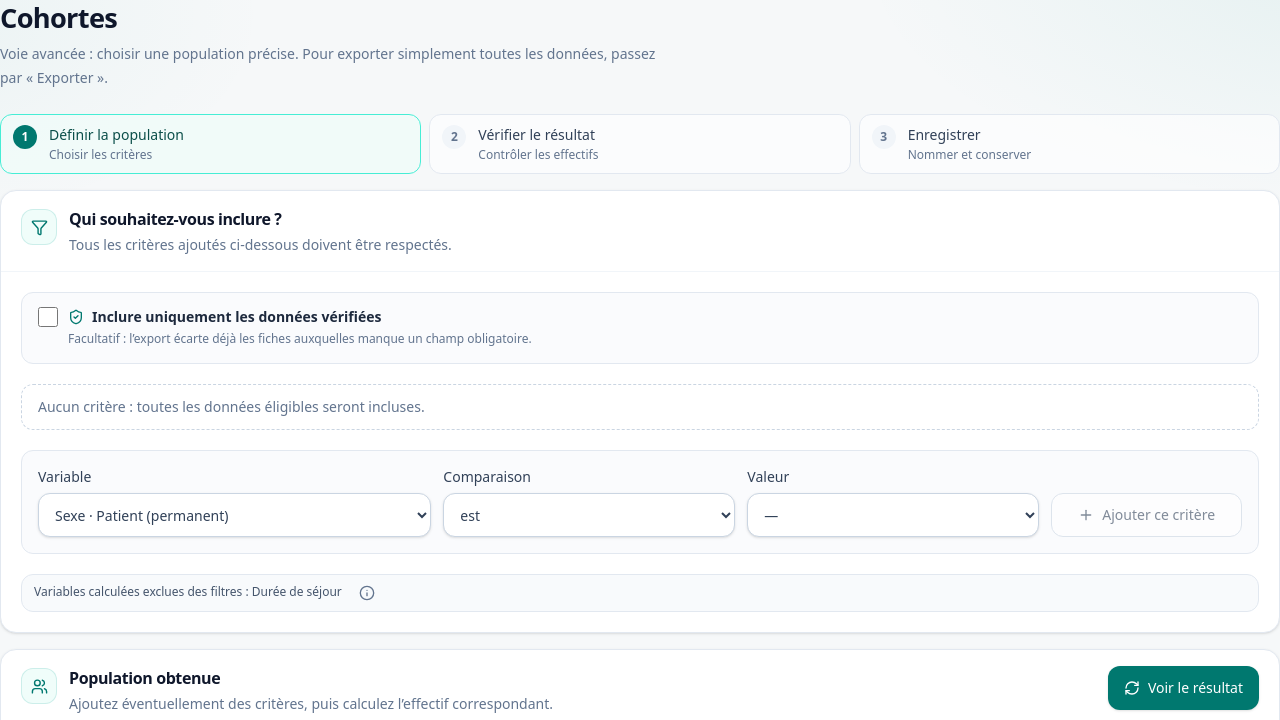
Test: CohortBuilder — variables calculees (L35) › l’ecran EXPLIQUE l’absence, au lieu de la laisser passer pour un oubli
Expected: the heading "Cohortes" is shown, [0, 0, 117, 36]
Expected: the text "Variables calculées exclues des filtres : Durée de séjour" is shown, [21, 574, 1259, 612]
Note: Lot 3 : le pourquoi et le geste utile s'ouvrent derriere ⓘ.
Click the button named "En savoir plus" at (367,593), box [345, 571, 389, 615]
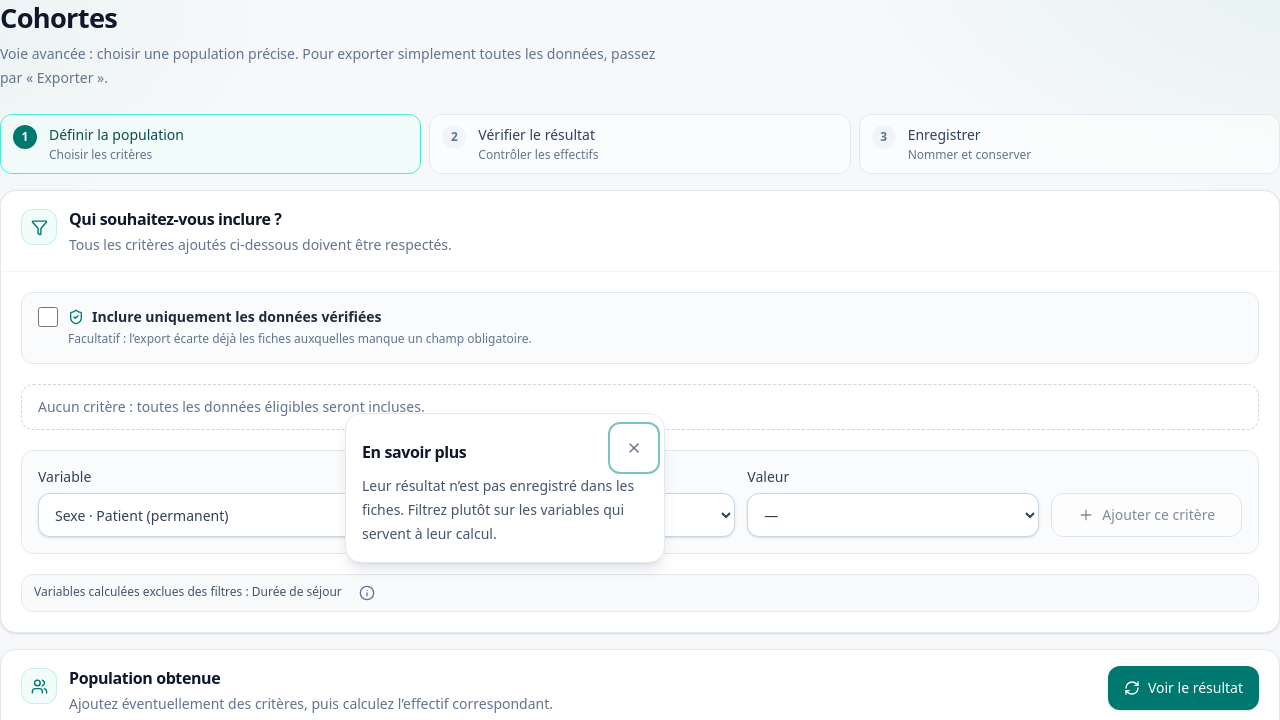
Result: the dialog "En savoir plus" shows "Filtrez plutôt sur les variables qui servent à leur calcul" at [362, 476, 634, 543]
